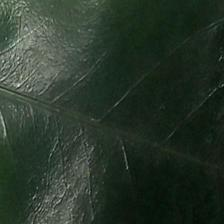healthy: (4, 3, 217, 196)
